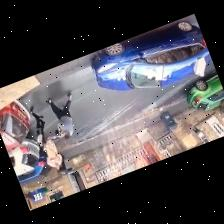person: (47, 92, 73, 138), (30, 106, 56, 148), (46, 140, 62, 169)
